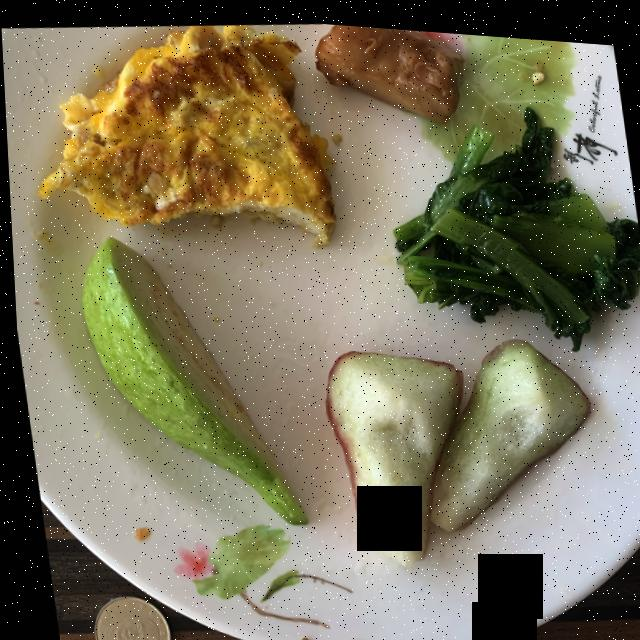coin: (87, 594, 163, 640)
guava -sliced-: (78, 235, 301, 519)
mustard greens: (391, 98, 640, 340)
